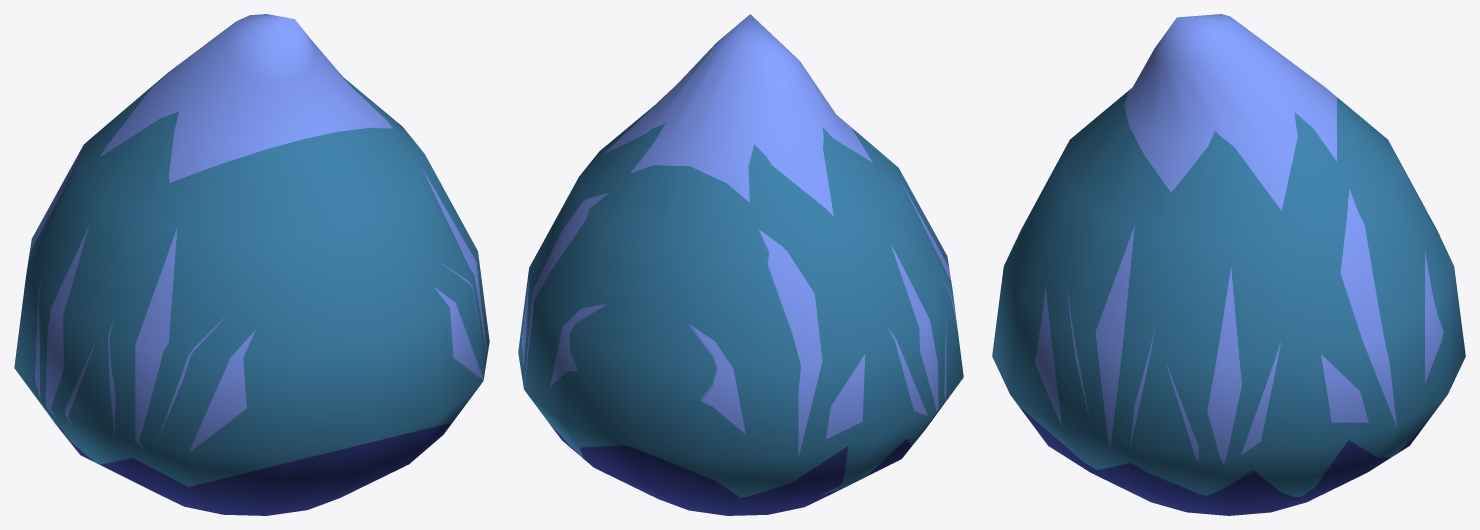
File: ITMC_Col.FBX
The picture shows the model from 3 angles, left to right: view 1: azimuth 30°, elevation 25°; view 2: azimuth 150°, elevation 25°; view 3: azimuth 270°, elevation 25°; orthographic projection. The views are drawn at different scales.
Visible parts, largest first — view 1: ITMC_Col; view 2: ITMC_Col; view 3: ITMC_Col.
Boxes of the visible parts, x1,y1,x2,y2 form: ITMC_Col: [14, 14, 489, 515]; ITMC_Col: [518, 14, 963, 515]; ITMC_Col: [992, 14, 1465, 515].
Bounding box in the file's own units: 0.5721 × 0.6394 × 0.5721.
